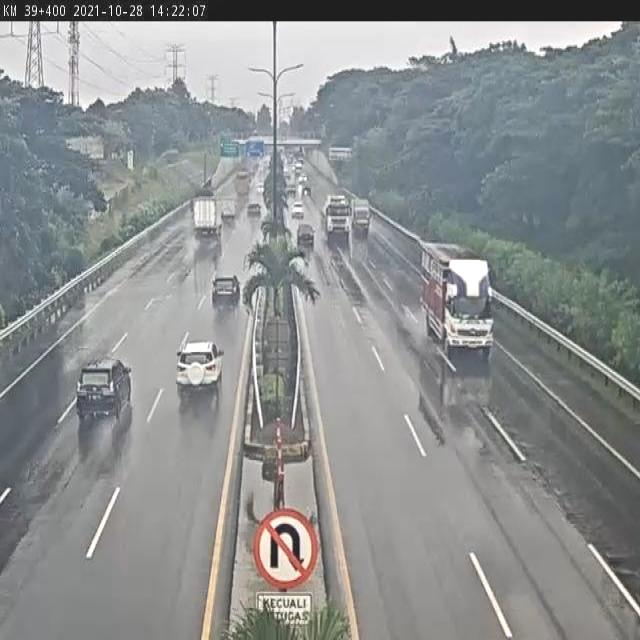Bus: (236, 171, 250, 197)
Car: (75, 358, 130, 422), (176, 340, 224, 392), (212, 274, 240, 305), (296, 223, 316, 246), (292, 202, 306, 218), (248, 204, 262, 218), (285, 182, 298, 195), (297, 172, 308, 183), (257, 181, 265, 195), (302, 186, 312, 197)
Truck: (418, 240, 494, 355), (191, 196, 223, 234), (324, 194, 351, 238), (352, 198, 372, 233), (220, 198, 236, 220)
